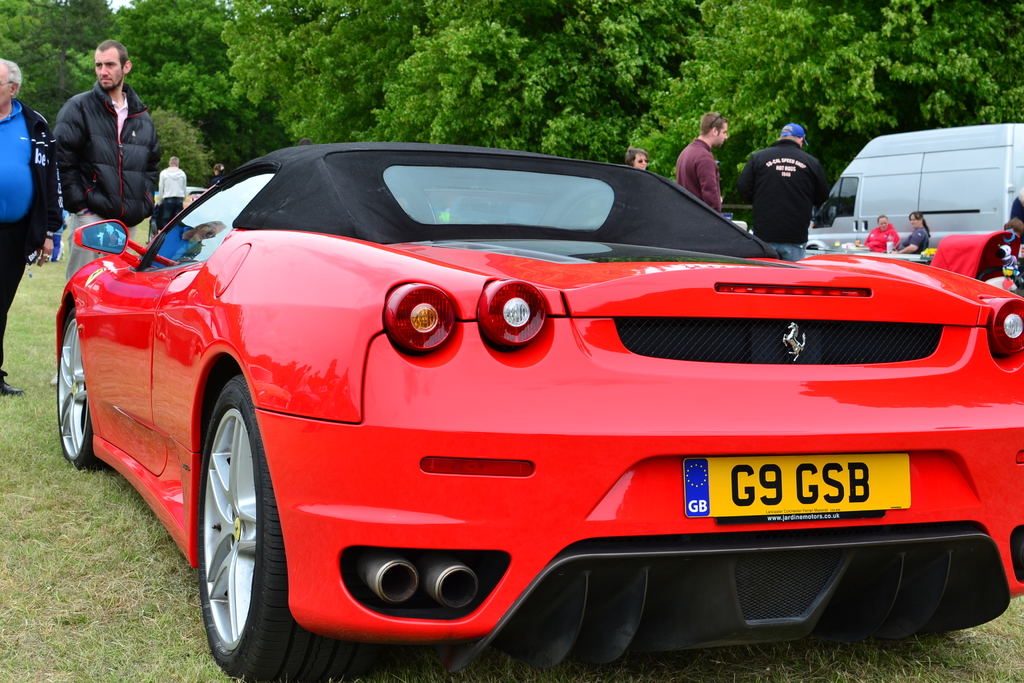car: (22, 96, 1024, 683), (793, 90, 1024, 272)
